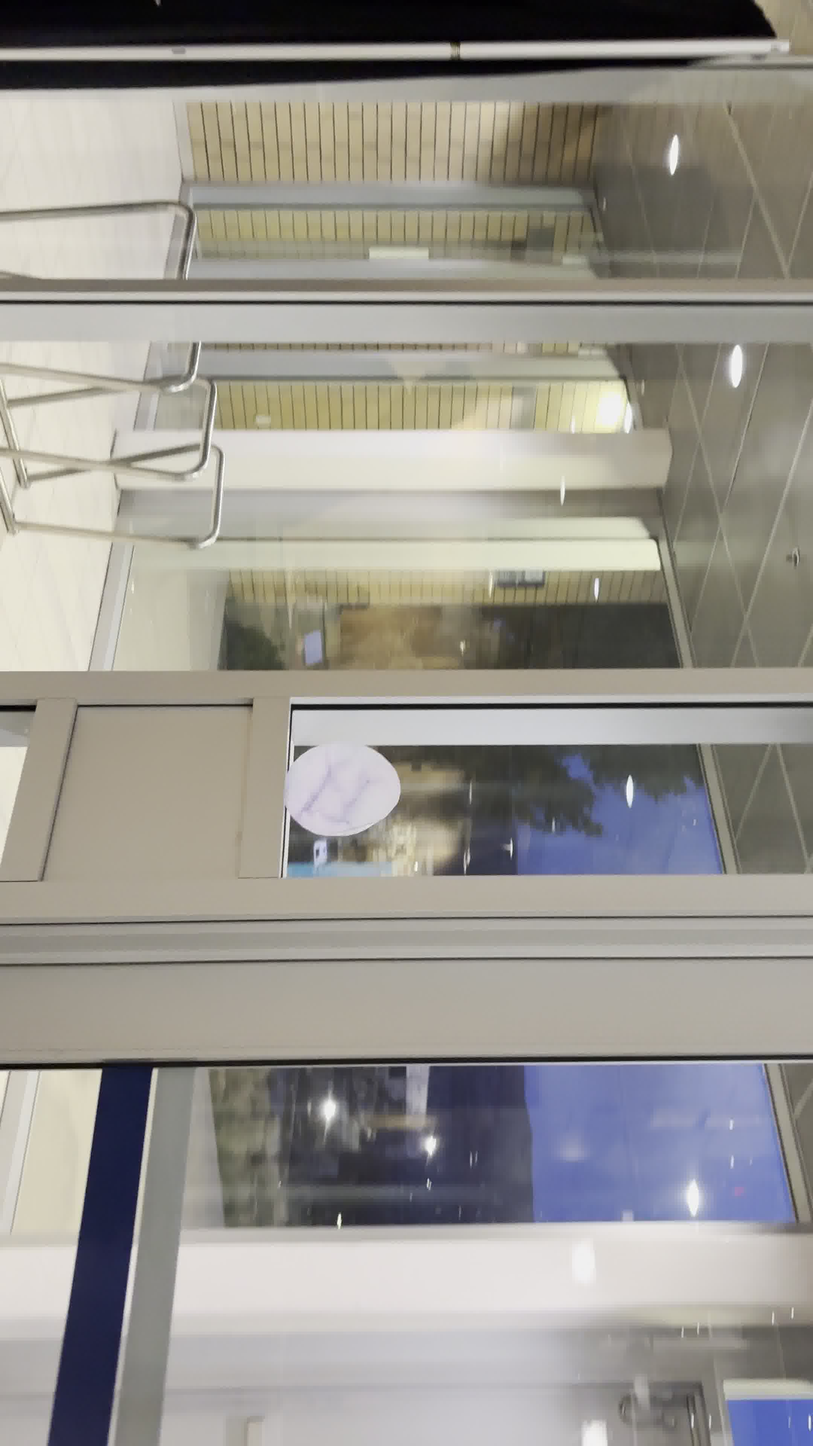Target: (282, 741, 402, 837)
